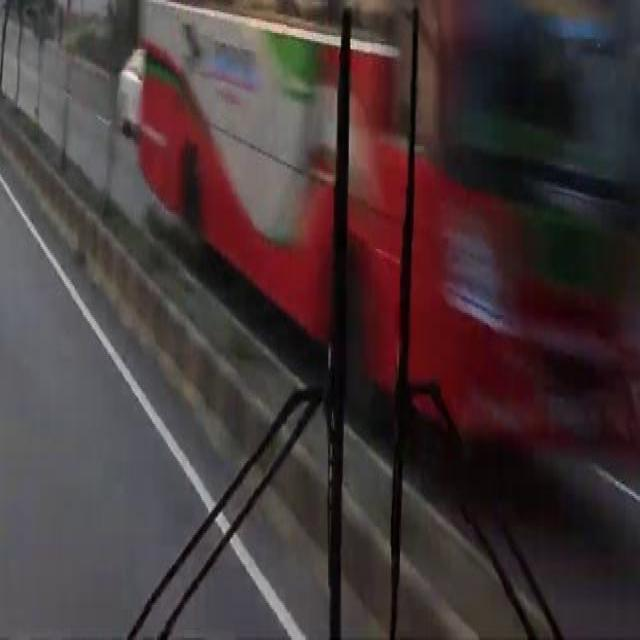5: (112, 43, 142, 138)
Truck: (142, 0, 638, 463)
